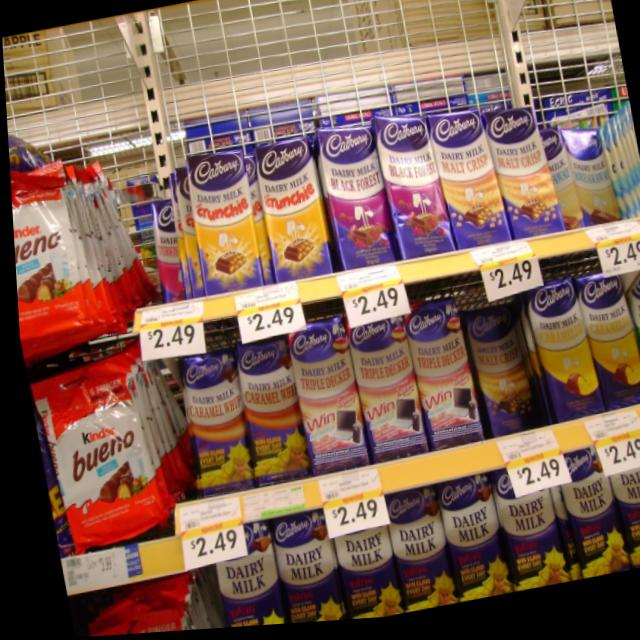q145: (426, 464, 501, 608), (546, 450, 620, 588), (262, 503, 342, 628), (379, 486, 448, 617), (490, 494, 561, 599), (325, 533, 396, 624), (208, 548, 280, 630), (606, 472, 640, 577)
